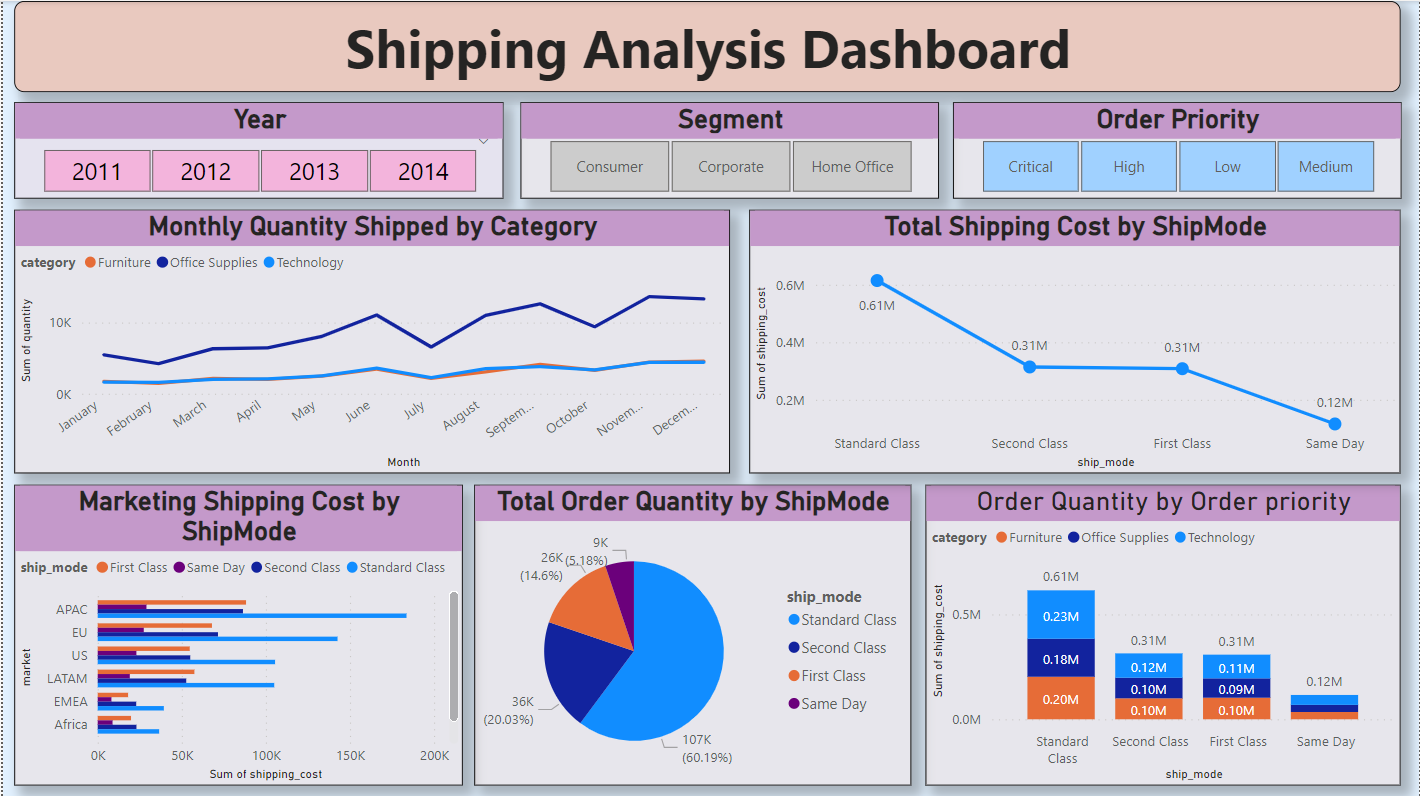

What the dashboard file says about the page in this screenshot:
{"tool":"powerbi","page":{"name":"Shipping Analysis Dashboard","canvas":[1280,720],"ordinal":2},"visuals":[{"type":"textbox","box":[10.2,0,1253.5,82.5],"z":0},{"type":"slicer","title":"Year","fields":{"Values":["SuperStoreOrders.year"]},"box":[10.5,91.8,442.7,87.1],"z":1000},{"type":"slicer","title":"Segment","fields":{"Values":["SuperStoreOrders.segment"]},"box":[468.3,91.8,378.8,87.1],"z":2000},{"type":"slicer","title":"Order Priority","fields":{"Values":["SuperStoreOrders.order_priority"]},"box":[858.7,91.8,405.5,87.1],"z":3000},{"type":"lineChart","title":"Monthly Quantity Shipped  by Category","fields":{"Category":["SuperStoreOrders.order_date.Variation.Date Hierarchy.Month"],"Series":["SuperStoreOrders.category"],"Y":["Sum(SuperStoreOrders.quantity)"]},"box":[10.5,188.2,647.2,238.2],"z":4000},{"type":"clusteredBarChart","title":"Marketing Shipping Cost by ShipMode","fields":{"Y":["Sum(SuperStoreOrders.shipping_cost)"],"Series":["SuperStoreOrders.ship_mode"],"Category":["SuperStoreOrders.market"]},"box":[10.5,436.9,405.5,271.9],"z":5000},{"type":"pieChart","title":"Total Order Quantity by ShipMode","fields":{"Y":["Sum(SuperStoreOrders.quantity)"],"Category":["SuperStoreOrders.ship_mode"]},"box":[426.4,436.9,395.1,271.9],"z":7000},{"type":"columnChart","title":"Order Quantity by Order priority","fields":{"Category":["SuperStoreOrders.ship_mode"],"Y":["Sum(SuperStoreOrders.shipping_cost)"],"Series":["SuperStoreOrders.category"]},"box":[834.3,436.9,429.9,271.9],"z":9000},{"type":"lineChart","title":"Total Shipping Cost by ShipMode","fields":{"Y":["Sum(SuperStoreOrders.shipping_cost)"],"Category":["SuperStoreOrders.ship_mode"]},"box":[675.1,188.2,589.1,238.2],"z":9001}]}

Visuals, with their boxes in screenshot pixels (x1, y1, x2, y2), scaled from the page's 1280x720 canvas onto the 1420x796 screenshot:
textbox: bbox=[11, 0, 1402, 91]
"Year" slicer: bbox=[12, 101, 503, 198]
"Segment" slicer: bbox=[520, 101, 940, 198]
"Order Priority" slicer: bbox=[953, 101, 1402, 198]
"Monthly Quantity Shipped  by Category" lineChart: bbox=[12, 208, 730, 471]
"Marketing Shipping Cost by ShipMode" clusteredBarChart: bbox=[12, 483, 462, 784]
"Total Order Quantity by ShipMode" pieChart: bbox=[473, 483, 911, 784]
"Order Quantity by Order priority" columnChart: bbox=[926, 483, 1402, 784]
"Total Shipping Cost by ShipMode" lineChart: bbox=[749, 208, 1402, 471]
